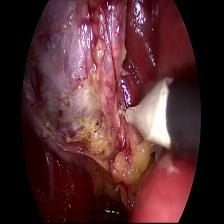Hook: (116, 77, 179, 147)
